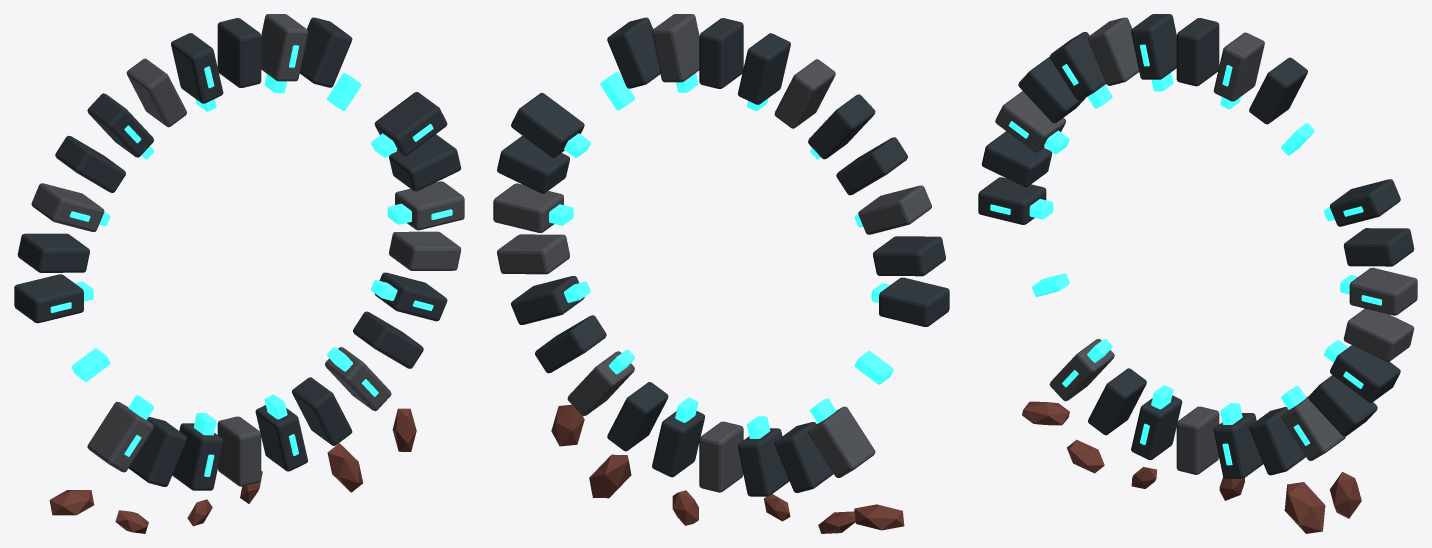
The model's file is crash-portal.glb.
The picture shows the model from 3 angles, left to right: view 1: azimuth 30°, elevation 25°; view 2: azimuth 150°, elevation 25°; view 3: azimuth 330°, elevation 25°; orthographic projection. The views are drawn at different scales.
Parts seen in each view (by area): view 1: crash-portal; view 2: crash-portal; view 3: crash-portal.
Boxes of the visible parts, x1,y1,x2,y2 form: crash-portal: [14, 14, 464, 533]; crash-portal: [493, 14, 949, 533]; crash-portal: [978, 14, 1417, 533].
Bounding box in the file's own units: 12.76 × 13.96 × 1.6.
